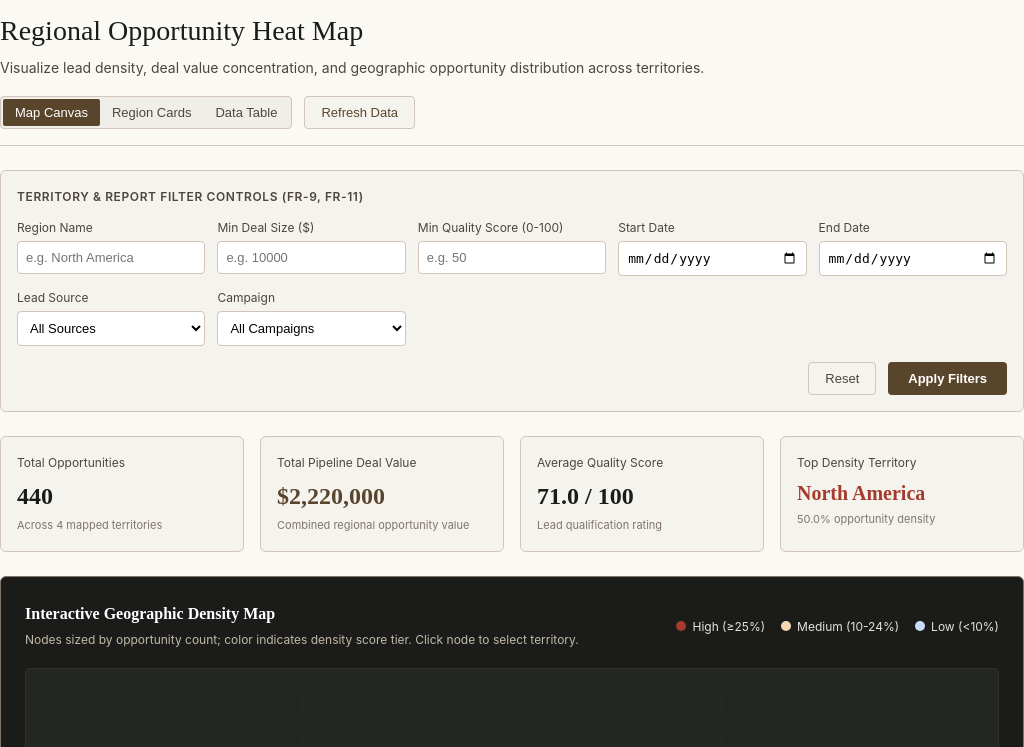
Scenario: HeatMap Component (Feature 005 - T024) › Region Selection & Detail Focus › selects region when node/card/row is clicked and shows focus drawer
The width and height of the screenshot is (1024, 747).
Switch to Cards View for easy click selection
Click the button with test id "heatmap-view-cards-btn" at coordinates (152, 112), box [100, 99, 204, 126]
(page scrolled)
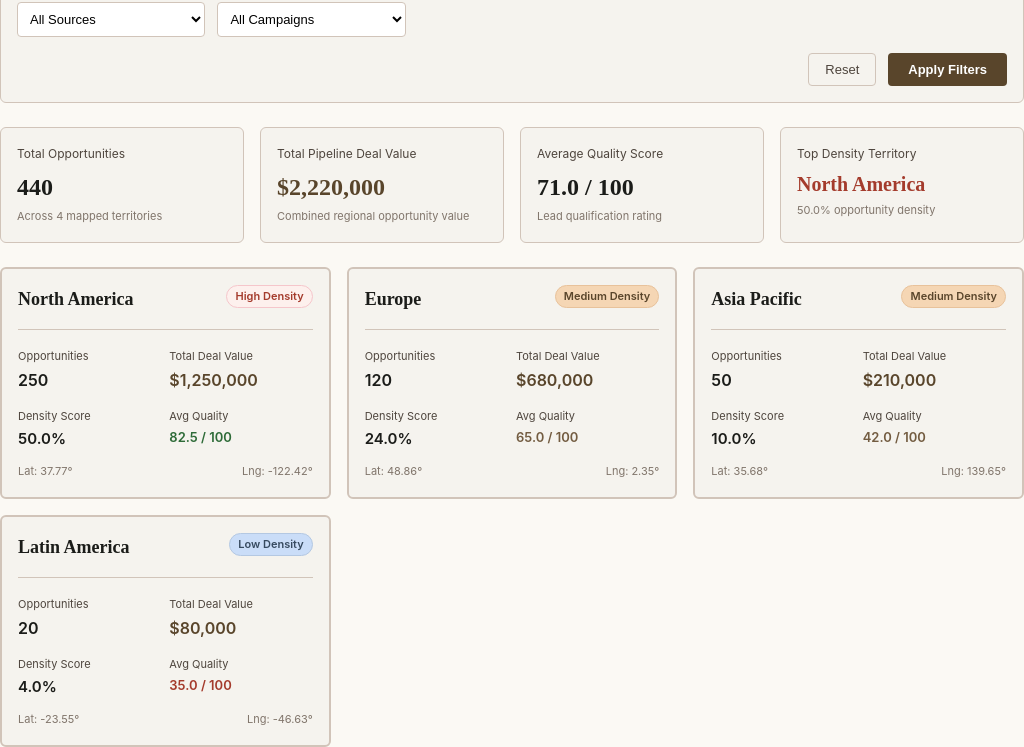
Click the element with test id "heatmap-card-north-america" at coordinates (165, 383), box [0, 266, 331, 499]
(page scrolled)
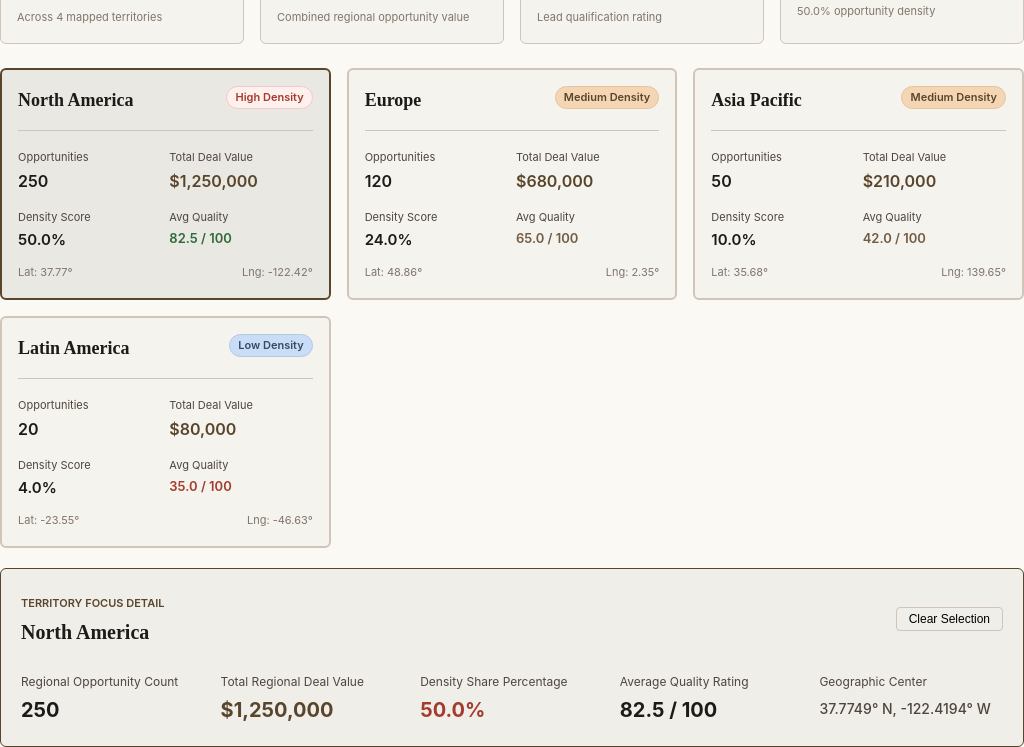
Expected: the element with test id "heatmap-selected-region-detail" is shown, [0, 568, 1023, 746]
Expected: the text "Territory Focus Detail" is shown, [21, 596, 164, 610]
Clear selection button
Click the button with test id "heatmap-clear-selection-btn" at coordinates (949, 619), box [896, 607, 1003, 631]
(page scrolled)
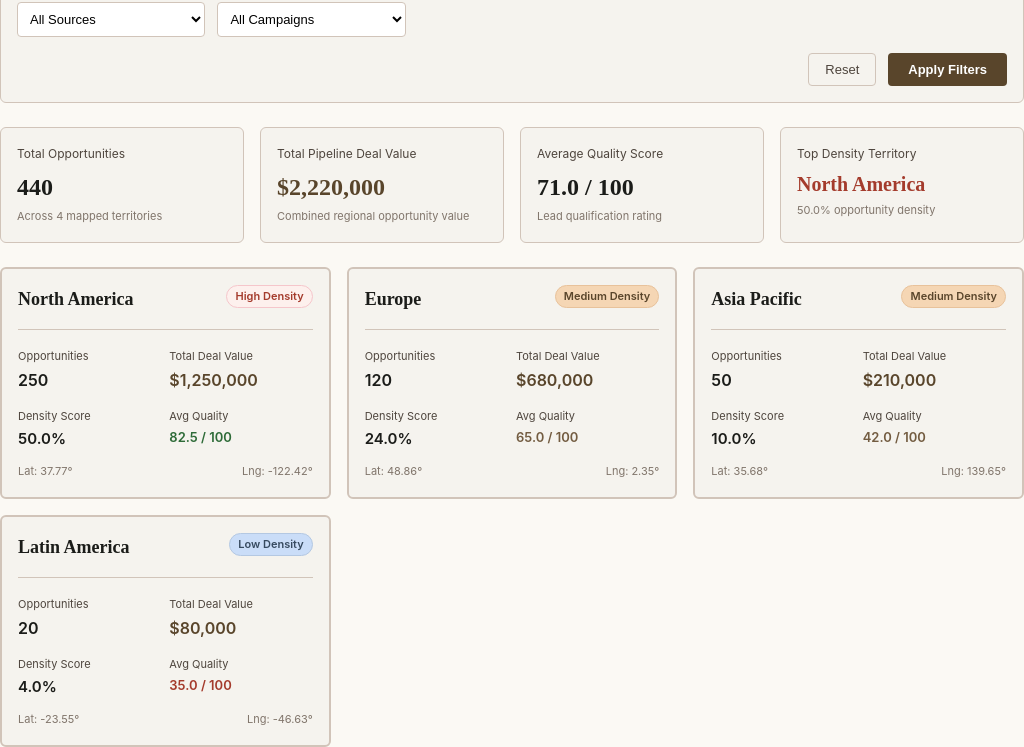
Expected: the element with test id "heatmap-selected-region-detail" is gone
